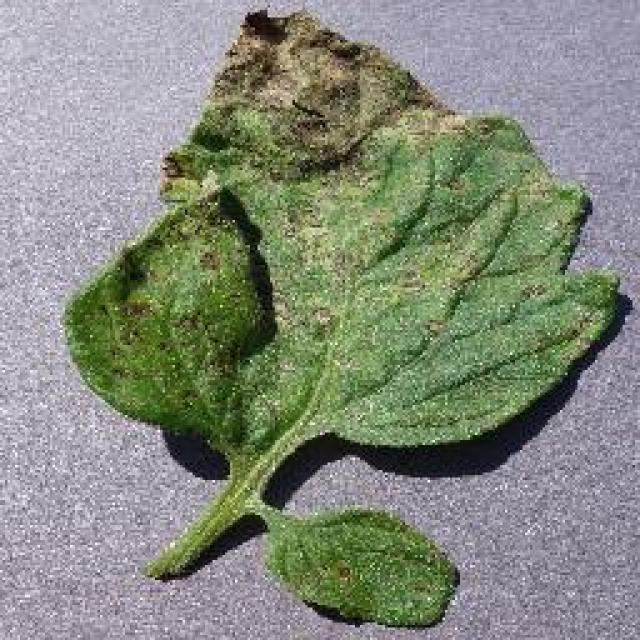Tom_Septoria_leaf_spot: (168, 12, 442, 216), (90, 228, 358, 430), (392, 216, 592, 362)
